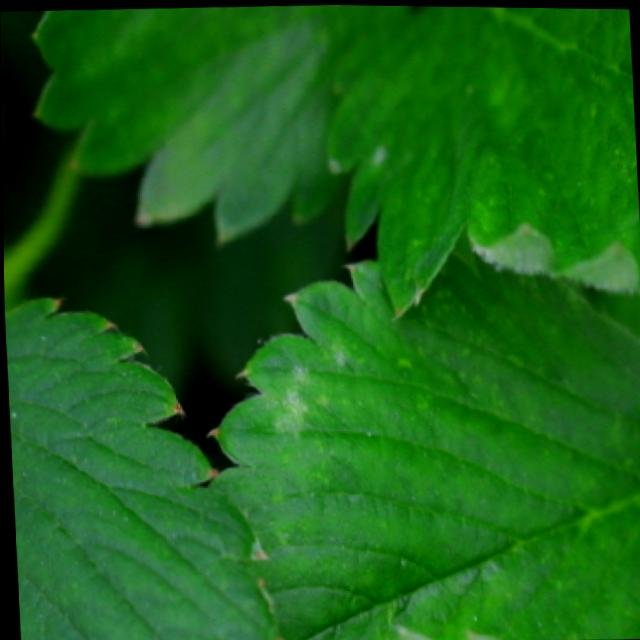Powdery Mildew Leaf: (201, 234, 640, 640), (323, 5, 640, 321)
